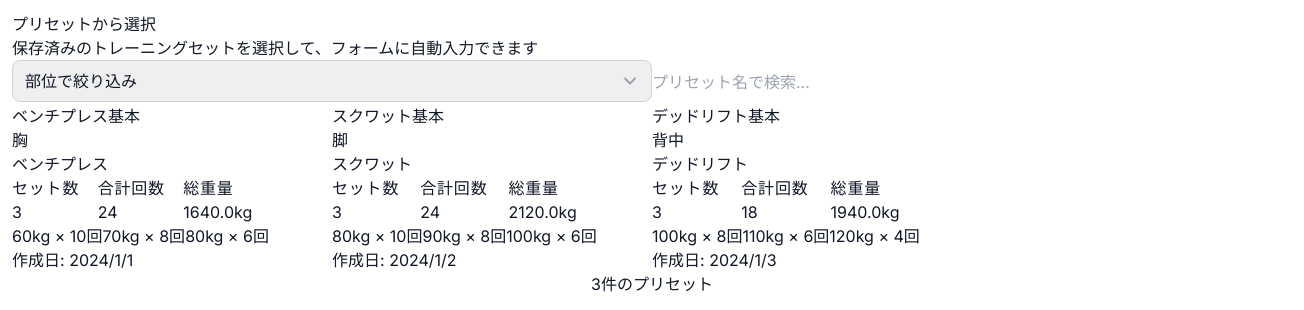
Test: PresetSelector › 検索機能 › トレーニング方法名で検索できる
Step 1. Type "スクワット" into the field labelled "プリセット名で検索" → (972, 82), box [652,60,1292,104]
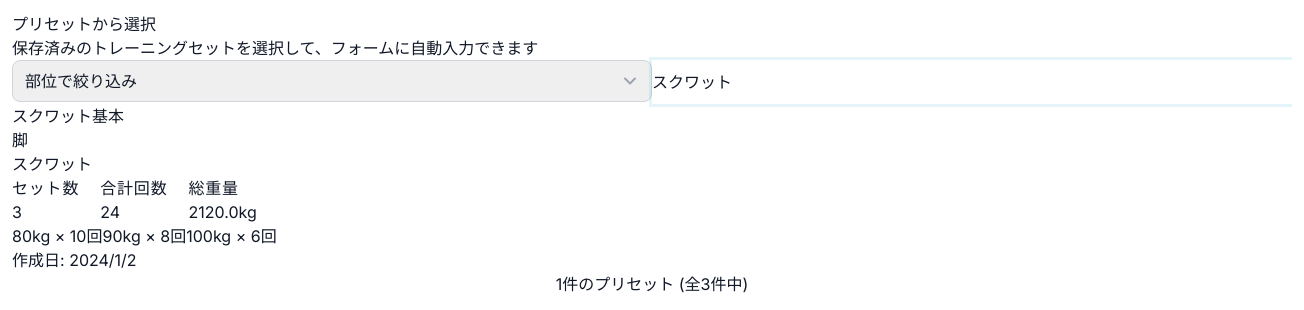
expect the text "スクワット基本" is shown: met, box [12,104,124,128]
expect the list item "ベンチプレス基本" is gone: met
expect the list item "デッドリフト基本" is gone: met
